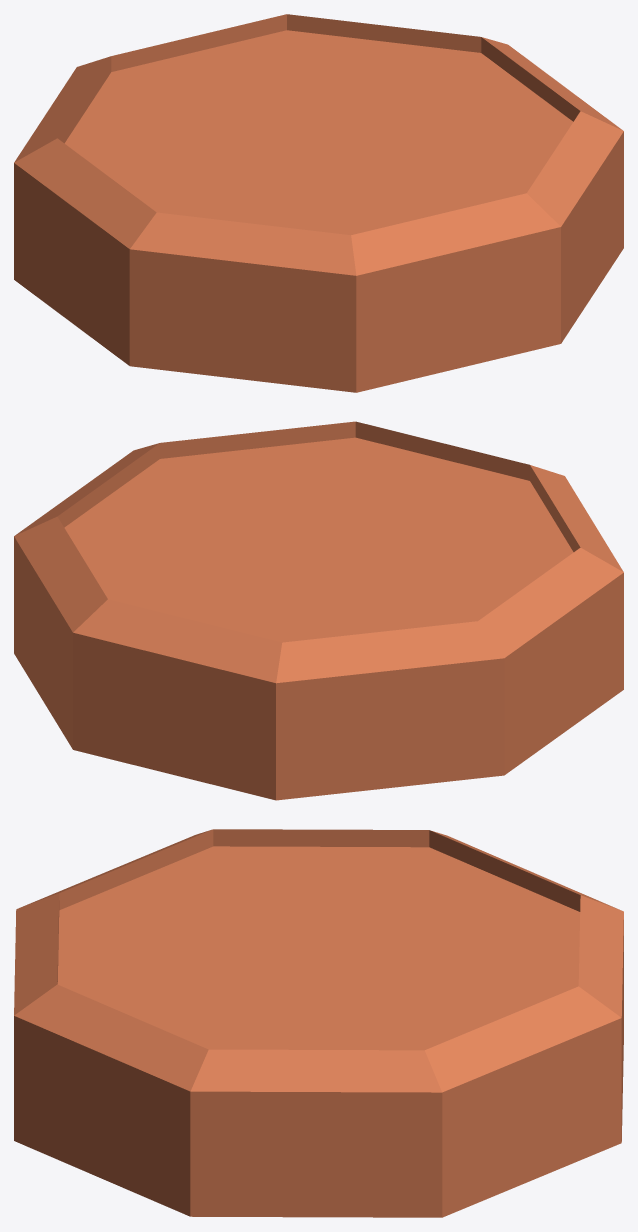
The model's file is obj_ohajiki_suzaku_01.fbx.
3 renders of one model, top to bottom at view 1: azimuth 30°, elevation 25°; view 2: azimuth 150°, elevation 25°; view 3: azimuth 270°, elevation 25°, orthographic. The views are drawn at different scales.
Parts seen in each view (by area): view 1: pCylinder2; view 2: pCylinder2; view 3: pCylinder2.
Part boxes in pixels (x1,y1,x2,y2): pCylinder2: [14, 14, 623, 392]; pCylinder2: [14, 421, 623, 800]; pCylinder2: [14, 829, 623, 1217].
Size of the model in its own units: 3.71 by 1 by 3.71.
